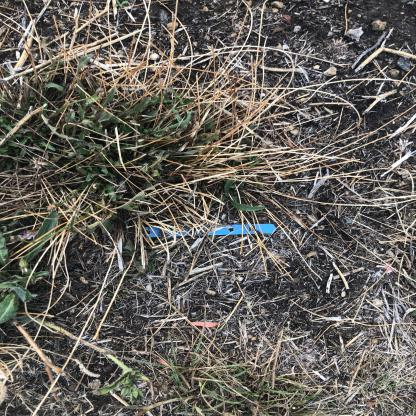Other plastic bottle: (146, 224, 275, 238)
